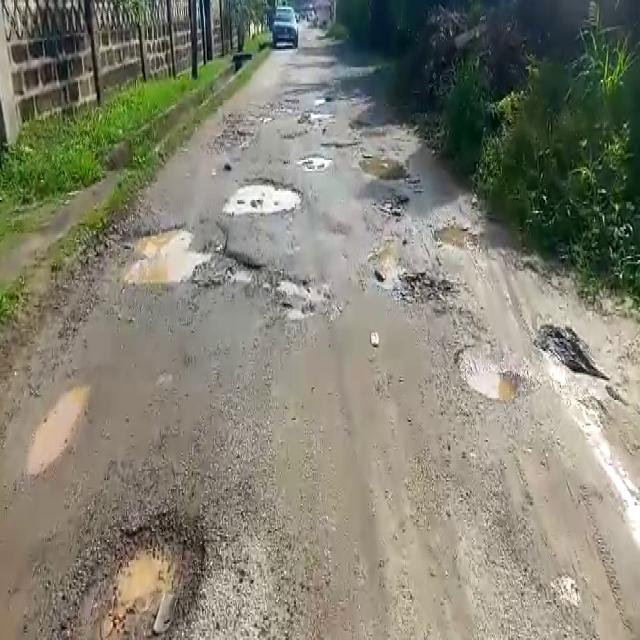Pothole: (93, 512, 212, 637), (117, 219, 231, 289), (29, 383, 90, 472), (454, 341, 526, 406), (535, 323, 605, 382), (221, 176, 306, 219), (272, 276, 338, 322), (397, 269, 458, 307), (433, 217, 480, 253), (359, 151, 410, 182), (297, 151, 334, 167)
